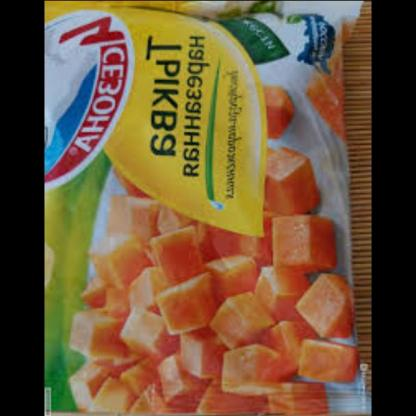pumpkin: (63, 178, 353, 416), (255, 150, 327, 221), (304, 65, 352, 139), (257, 78, 301, 140)
